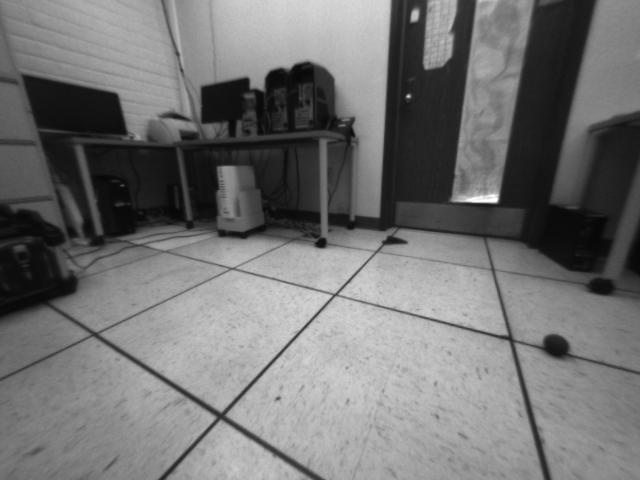dogtoy: (533, 328, 578, 364)
